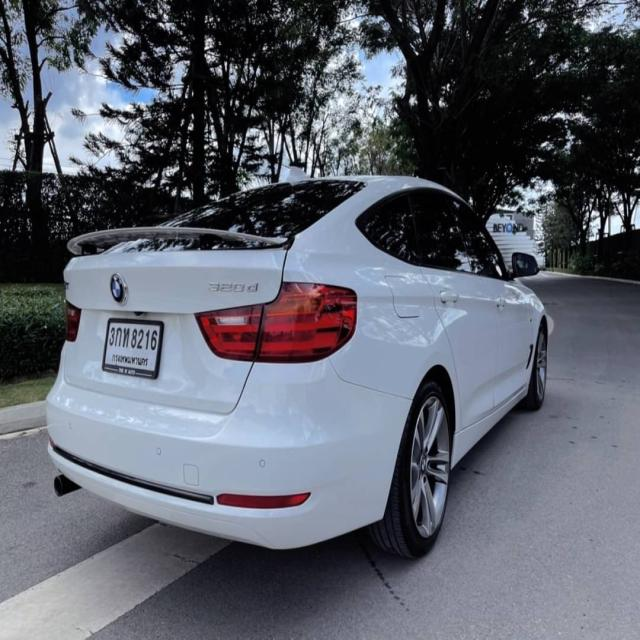license_plate: (102, 316, 165, 377)
